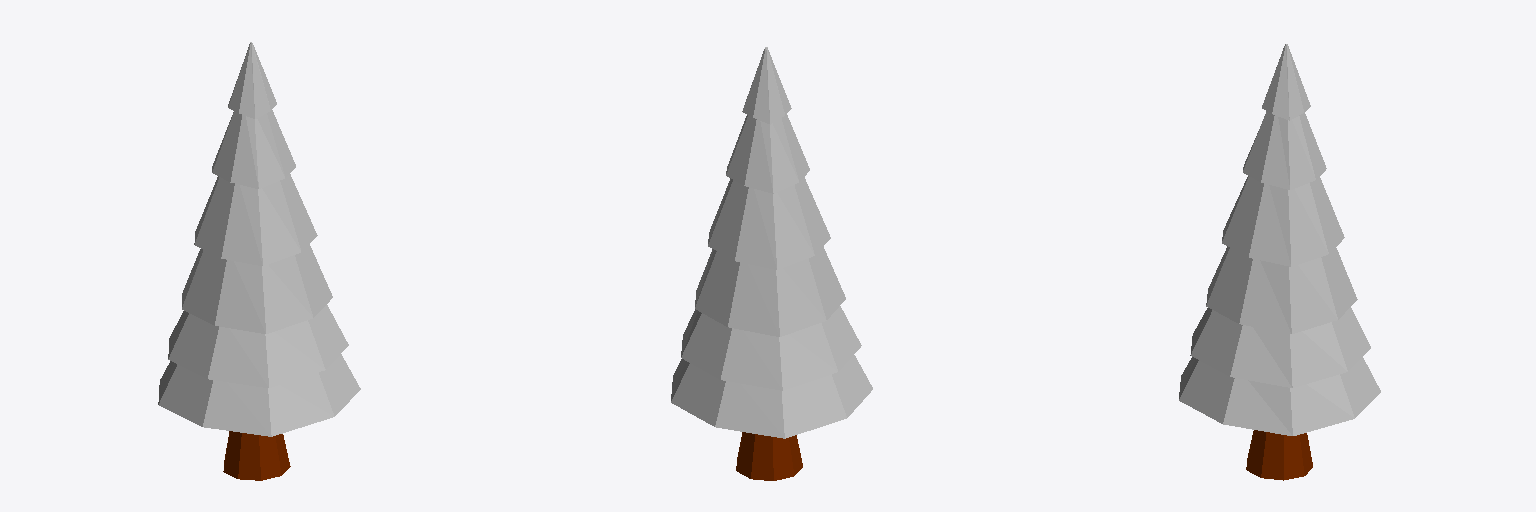
3 renders of one model, left to right at view 1: azimuth 30°, elevation 25°; view 2: azimuth 150°, elevation 25°; view 3: azimuth 270°, elevation 25°, orthographic.
Visible parts, largest first — view 1: Cylinder.007, Cylinder.006; view 2: Cylinder.007, Cylinder.006; view 3: Cylinder.007, Cylinder.006.
Part boxes in pixels (bbox=[...]): Cylinder.007: bbox=[158, 42, 360, 436]; Cylinder.006: bbox=[223, 431, 290, 480]; Cylinder.007: bbox=[671, 47, 872, 438]; Cylinder.006: bbox=[736, 432, 802, 480]; Cylinder.007: bbox=[1179, 44, 1380, 435]; Cylinder.006: bbox=[1246, 430, 1312, 480].
Bounding box in the file's own units: 0.7645 × 1.74 × 0.7581.
2 materials, 1 textured.